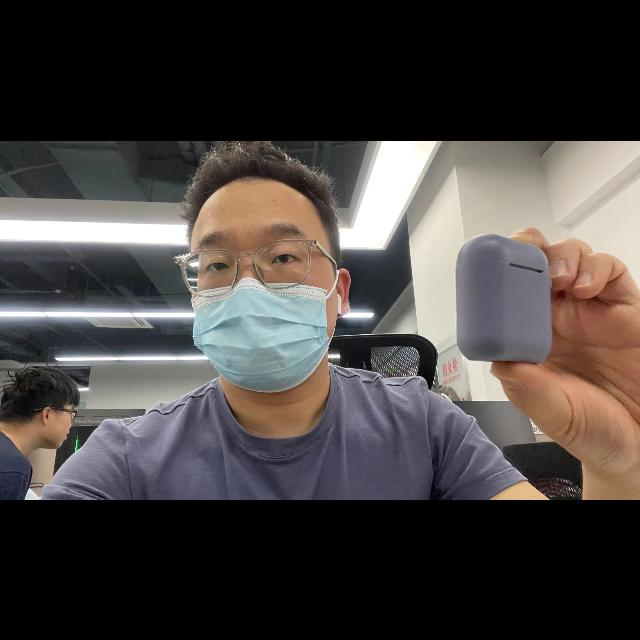airpods: (457, 234, 553, 363)
